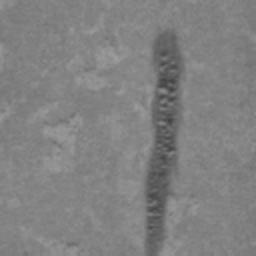Oxide scale of plate system: (142, 28, 188, 256)
